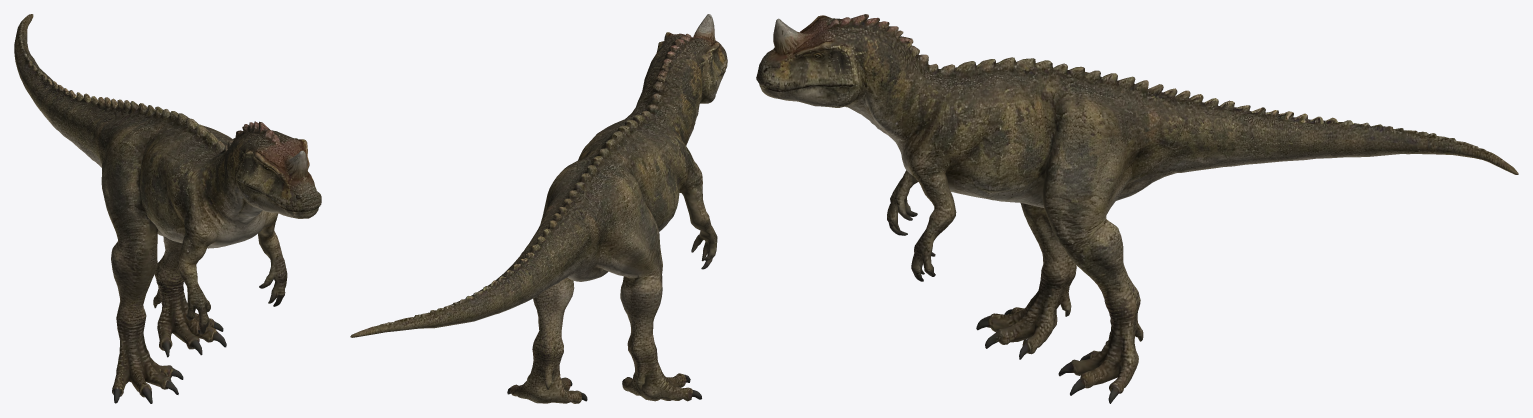
The model's file is ceratosaurus.glb.
3 renders of one model, left to right at view 1: azimuth 30°, elevation 25°; view 2: azimuth 150°, elevation 25°; view 3: azimuth 270°, elevation 25°, orthographic. The views are drawn at different scales.
Visible parts, largest first — view 1: dino; view 2: dino; view 3: dino.
Boxes of the visible parts, x1=… form: dino: x1=14, y1=14, x2=321, y2=403; dino: x1=350, y1=14, x2=727, y2=403; dino: x1=756, y1=14, x2=1518, y2=403.
Bounding box in the file's own units: 1.62 × 3.07 × 6.
1 material, 1 textured.
